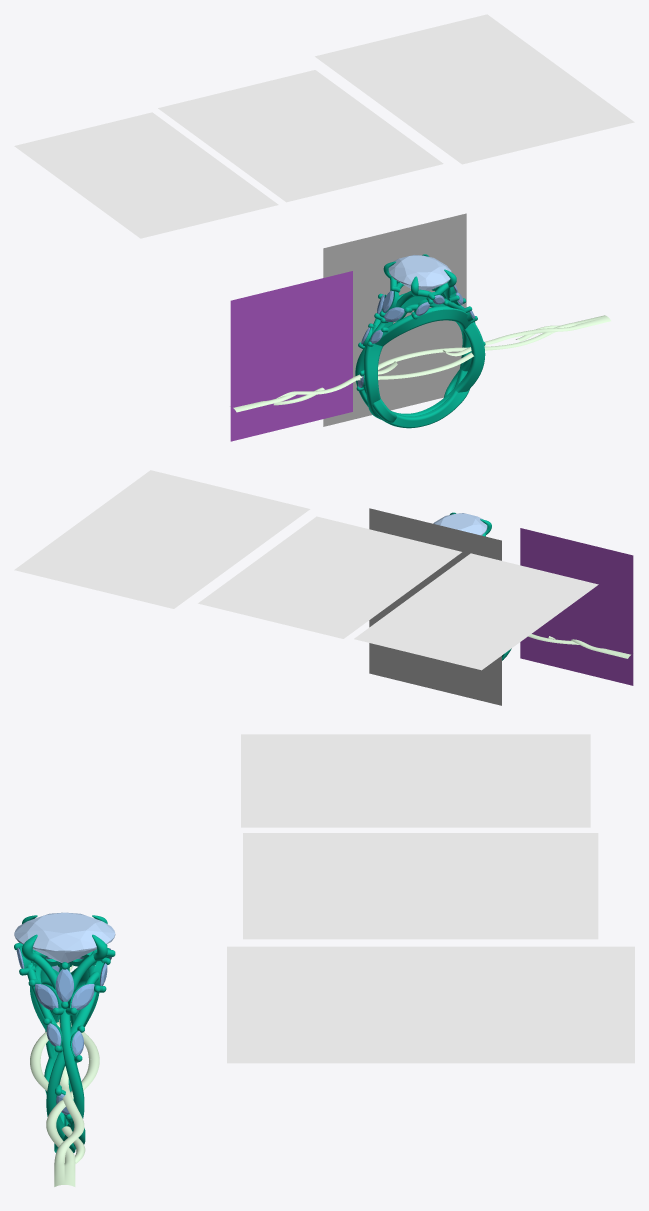
3 renders of one model, top to bottom at view 1: azimuth 30°, elevation 25°; view 2: azimuth 150°, elevation 25°; view 3: azimuth 270°, elevation 25°, orthographic. The views are drawn at different scales.
Parts seen in each view (by area): view 1: VR1058(front).3dm, Diamond_Oval; view 2: VR1058(front).3dm, Diamond_Oval; view 3: VR1058(front).3dm, Diamond_Oval.
Part boxes in pixels (left/top/right/bottom): VR1058(front).3dm: left=14, top=14, right=634, bottom=441; Diamond_Oval: left=388, top=255, right=451, bottom=290; VR1058(front).3dm: left=14, top=470, right=633, bottom=705; Diamond_Oval: left=433, top=513, right=487, bottom=535; VR1058(front).3dm: left=14, top=734, right=634, bottom=1186; Diamond_Oval: left=14, top=912, right=115, bottom=962.
Bounding box in the file's own units: 9.4 × 3.59 × 7.48.
